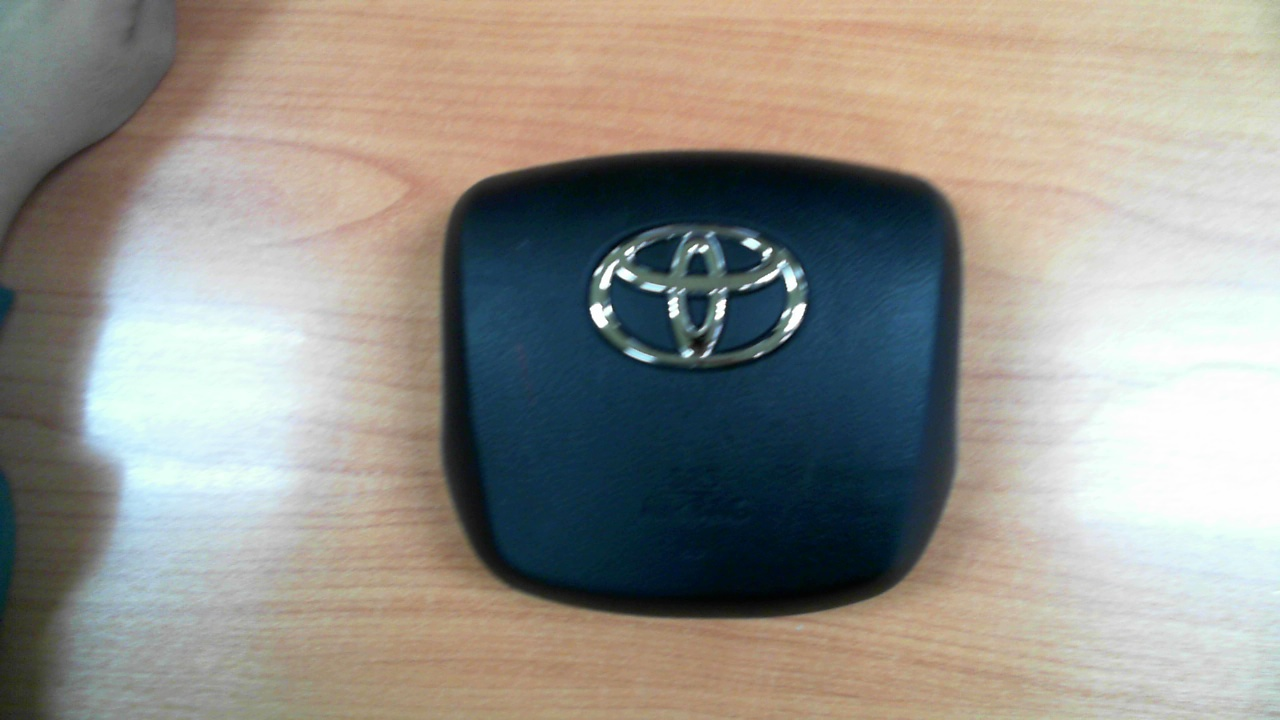Airbag: (427, 155, 964, 614)
Toyota: (588, 223, 809, 369)
